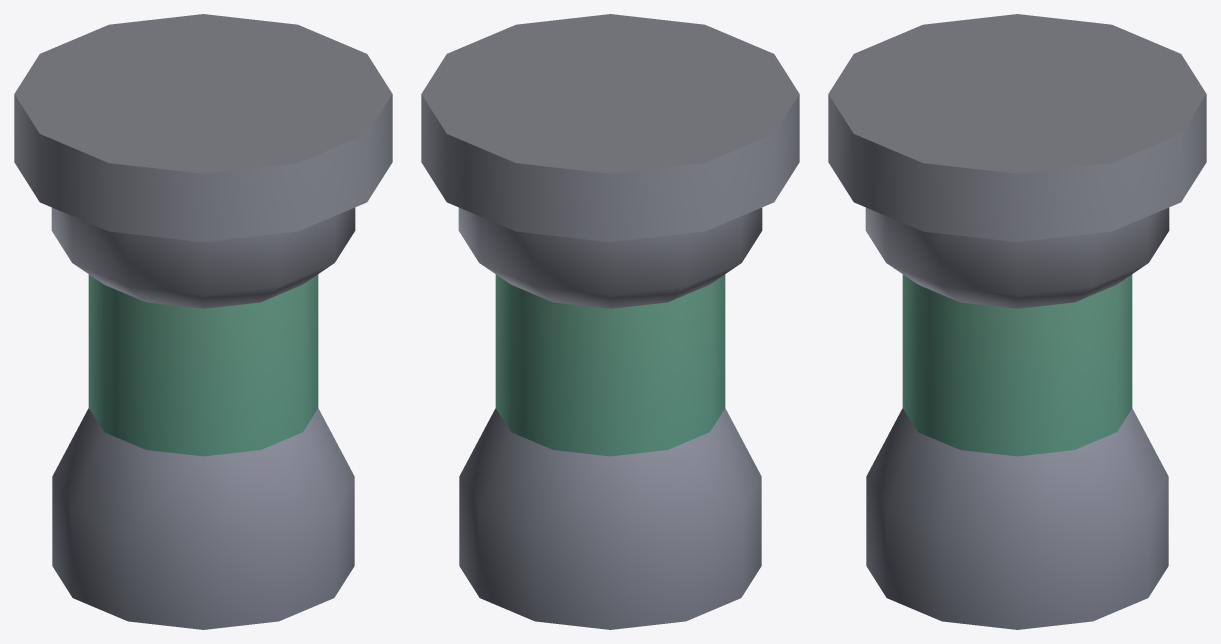
The model's file is column.glb.
The picture shows the model from 3 angles, left to right: view 1: azimuth 30°, elevation 25°; view 2: azimuth 150°, elevation 25°; view 3: azimuth 270°, elevation 25°; orthographic projection.
Parts seen in each view (by area): view 1: column; view 2: column; view 3: column.
Part boxes in pixels (left/top/right/bottom): column: left=14, top=14, right=392, bottom=629; column: left=421, top=14, right=799, bottom=629; column: left=828, top=14, right=1206, bottom=629.
Size of the model in its own units: 0.7258 by 1 by 0.7258.
